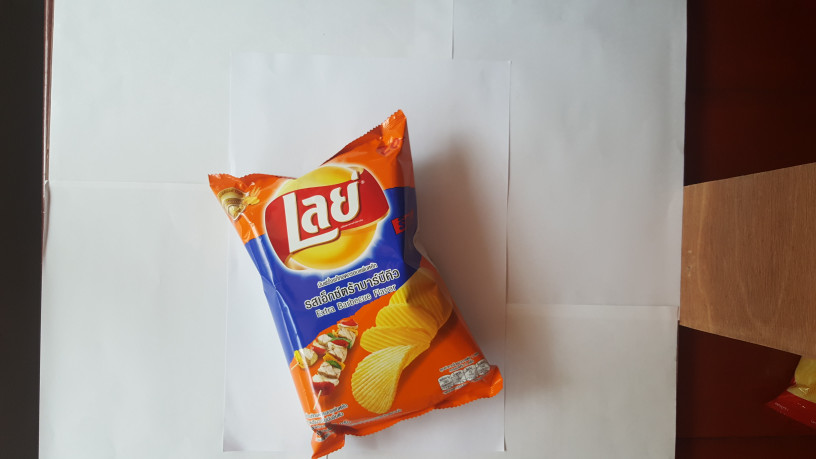lays-bbq: (197, 105, 507, 459)
